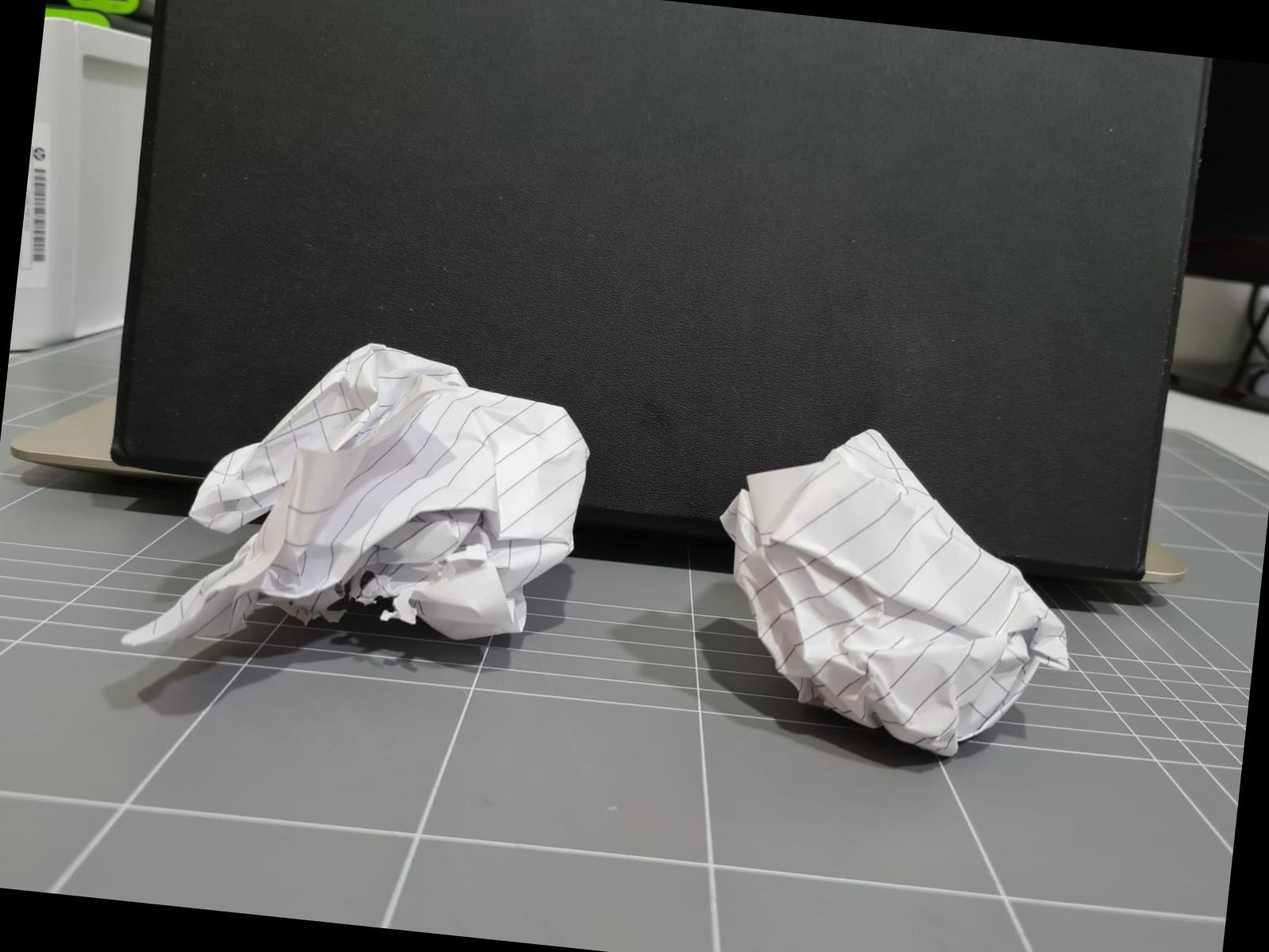Kertas: (122, 344, 588, 646), (722, 430, 1066, 755)
